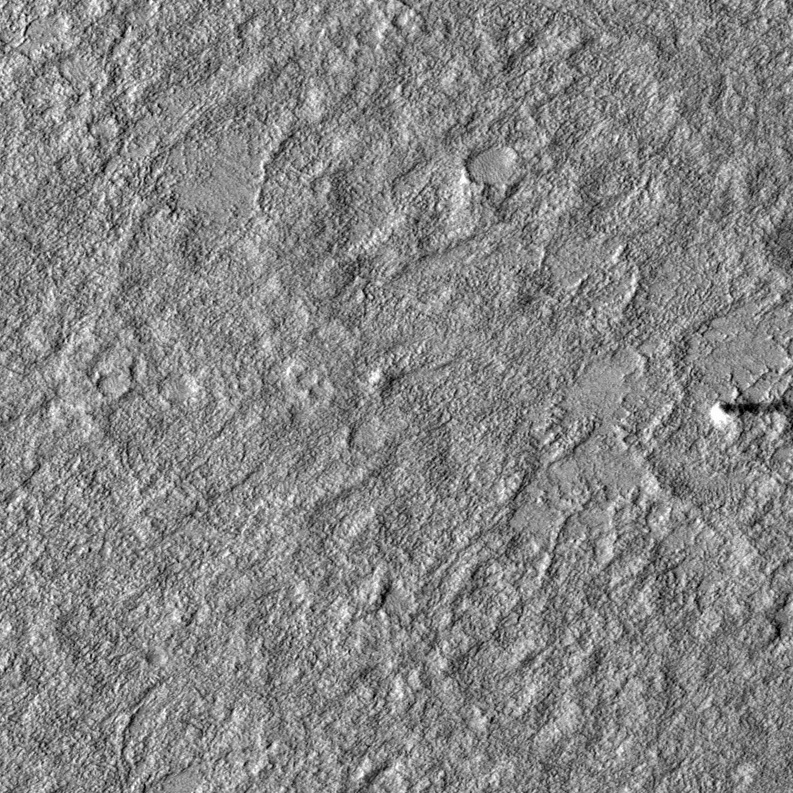dust_devil: (707, 397, 793, 429)
